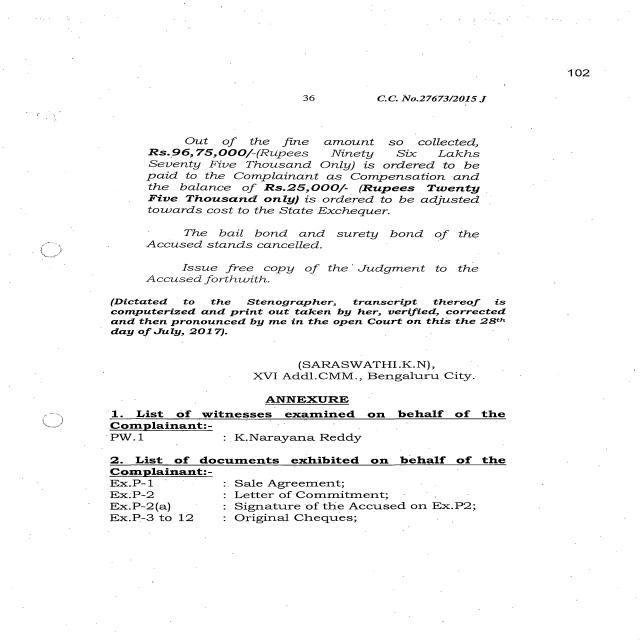page-number: (487, 26, 640, 124)
